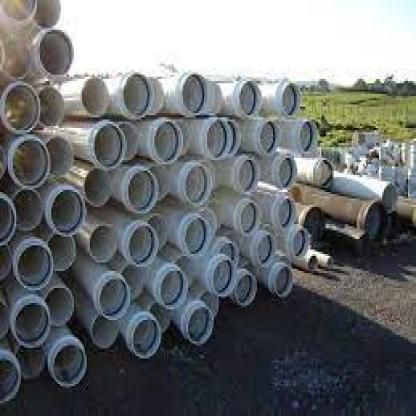PVC: (0, 1, 400, 403)
